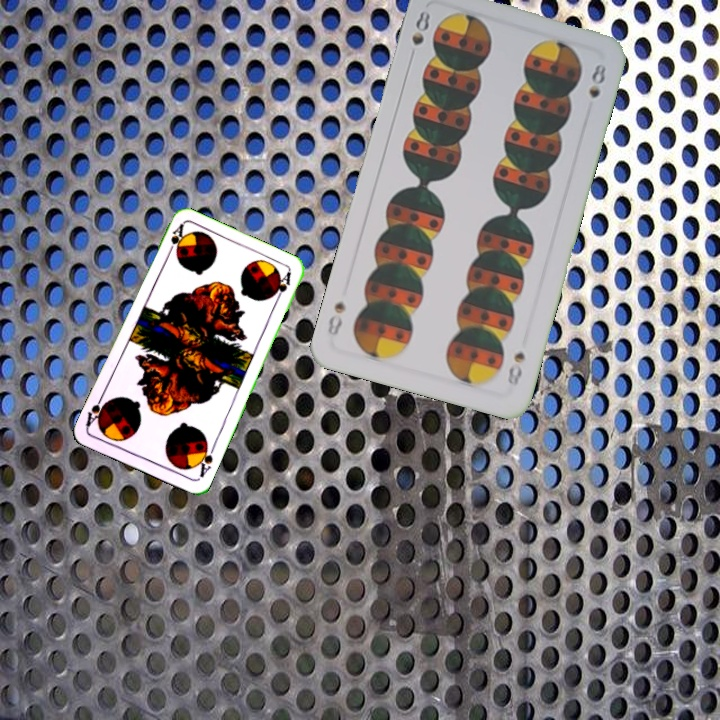S8: (407, 6, 433, 48), (503, 347, 528, 389)
SA: (192, 439, 217, 480), (163, 220, 186, 259)
